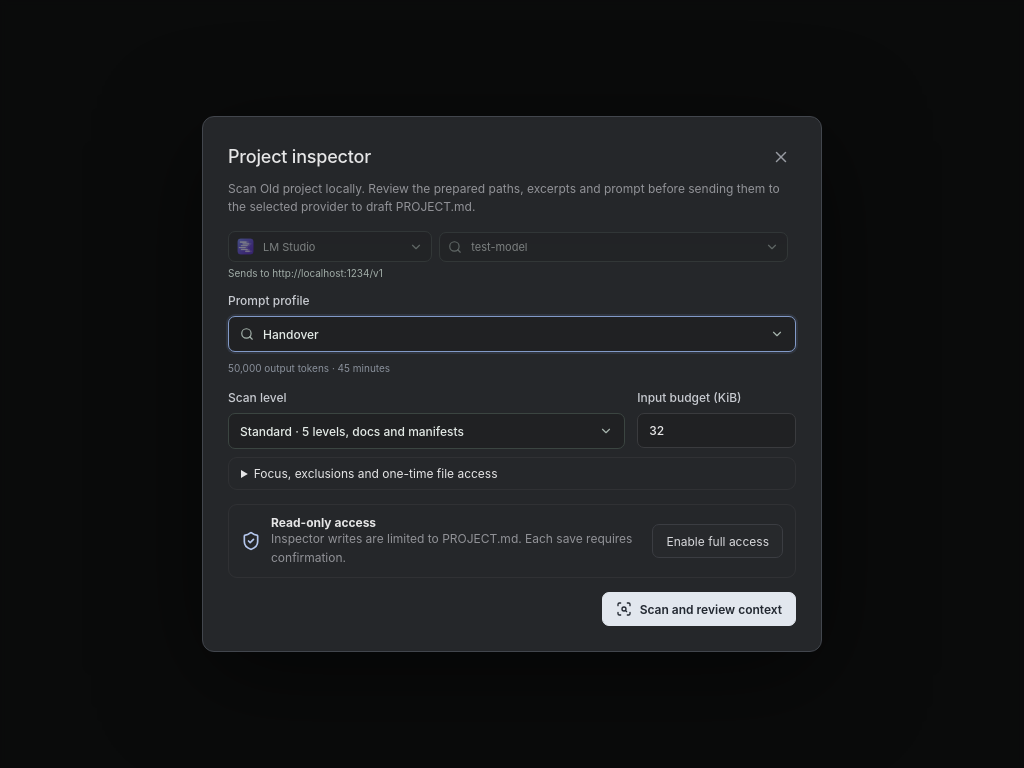
Test: sends the selected profile and shows the provider's response when there is no draft
Earlier steps of the test are not shown.
Click the dropdown named "Scan level". click: (427, 431)
box: [228,413,625,449]
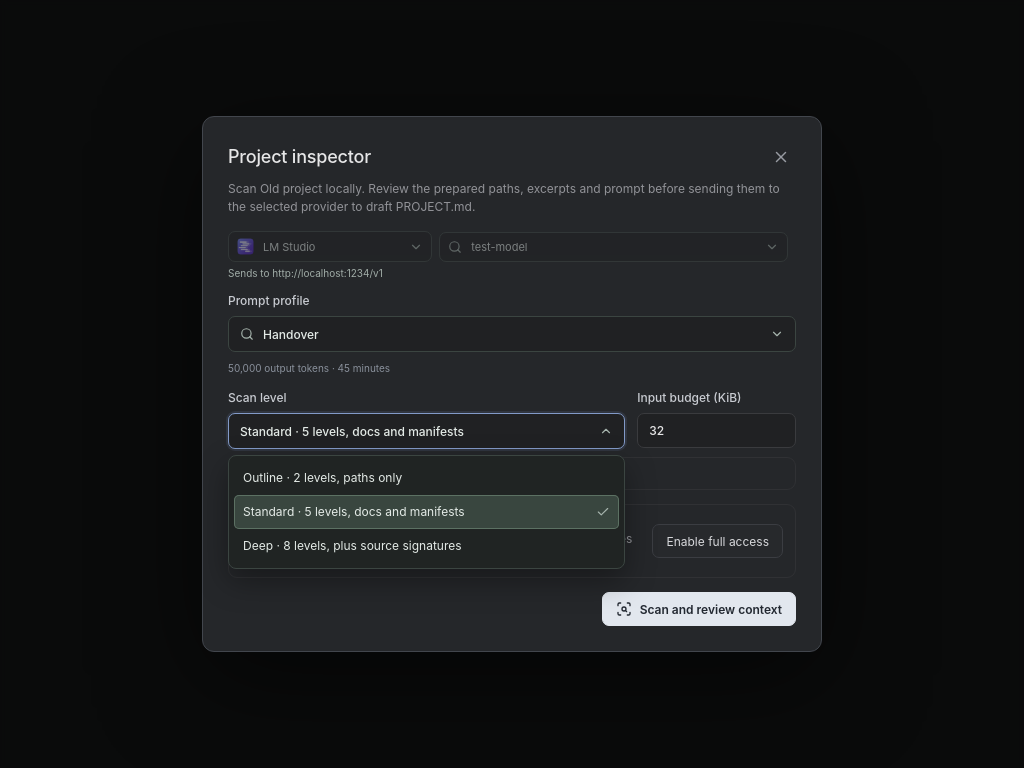
Click the option "Deep · 8 levels, plus source signatures". click: (352, 545)
box: [243,538,462,553]
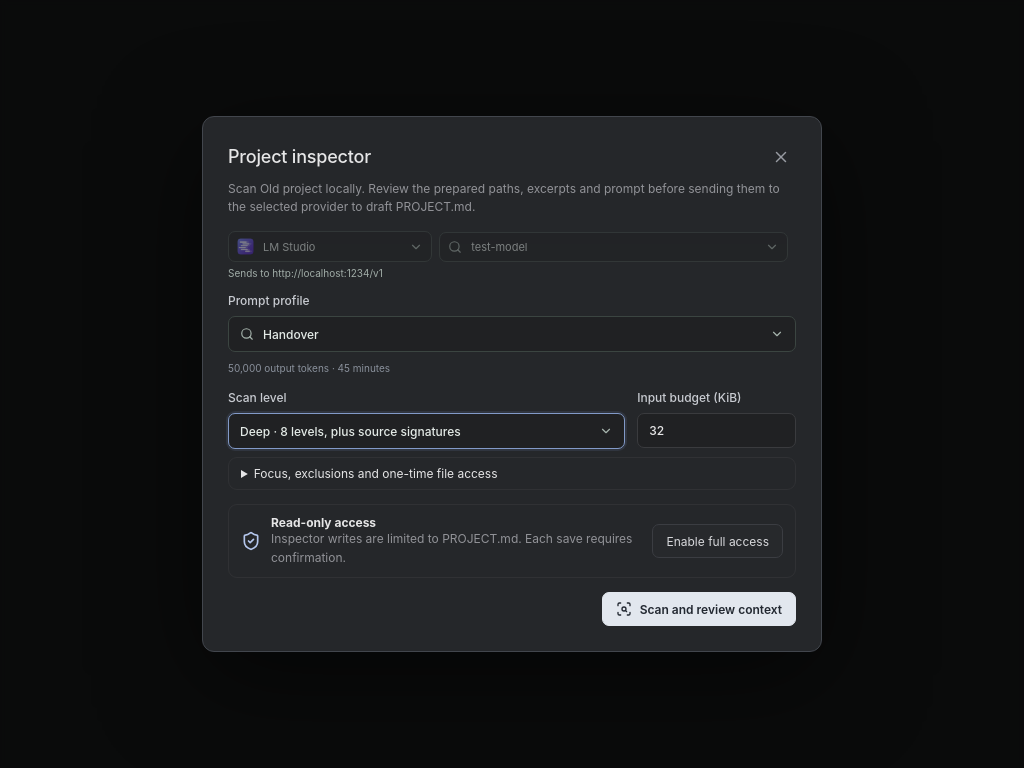
Click the button "Scan and review context". click: (699, 609)
box: [602,592,796,626]
(page scrolled)
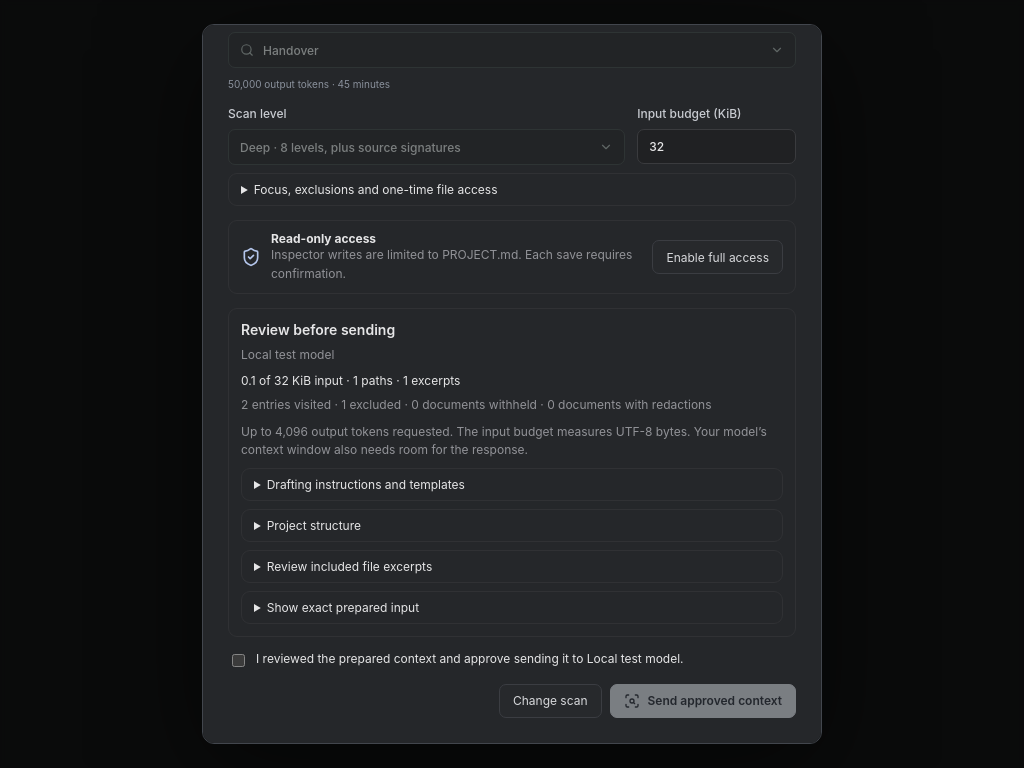
Now the button "Send approved context" is disabled, box [610,684,796,718]
Now the dropdown named "Scan level" is disabled, box [228,129,625,165]
Now the dropdown named "Prompt profile" is disabled, box [228,32,796,68]
Click the checkbox labelled "approve sending". click: (238, 660)
box: [232,654,245,667]
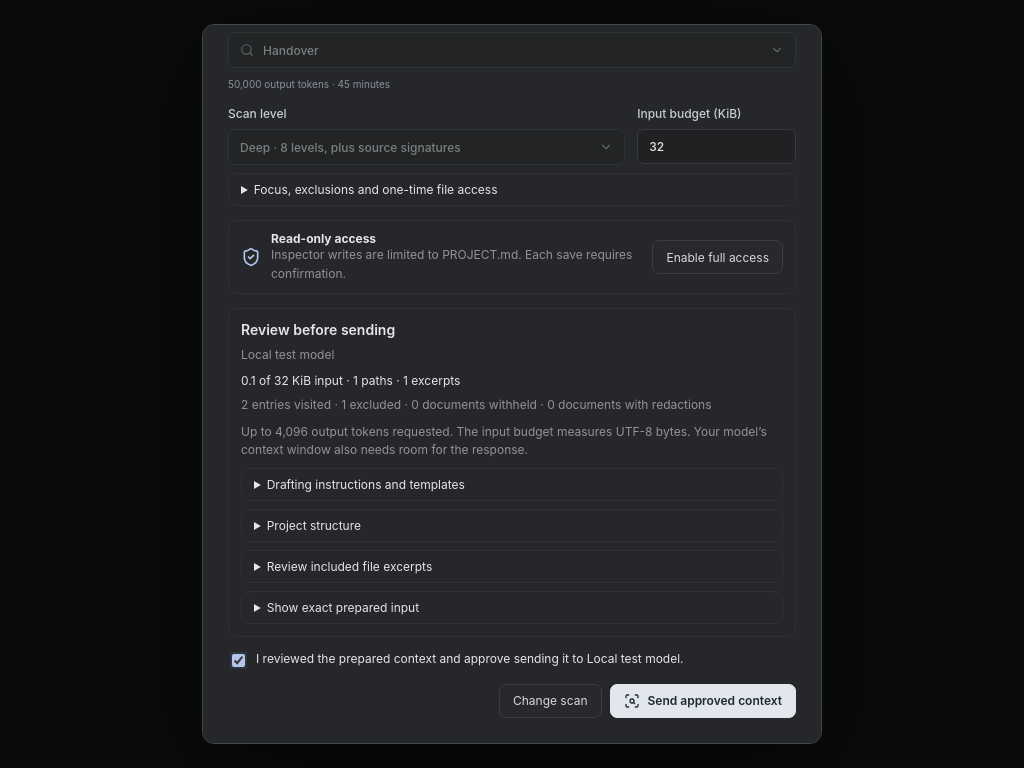
Click the button "Send approved context". click: (703, 701)
box: [610,684,796,718]
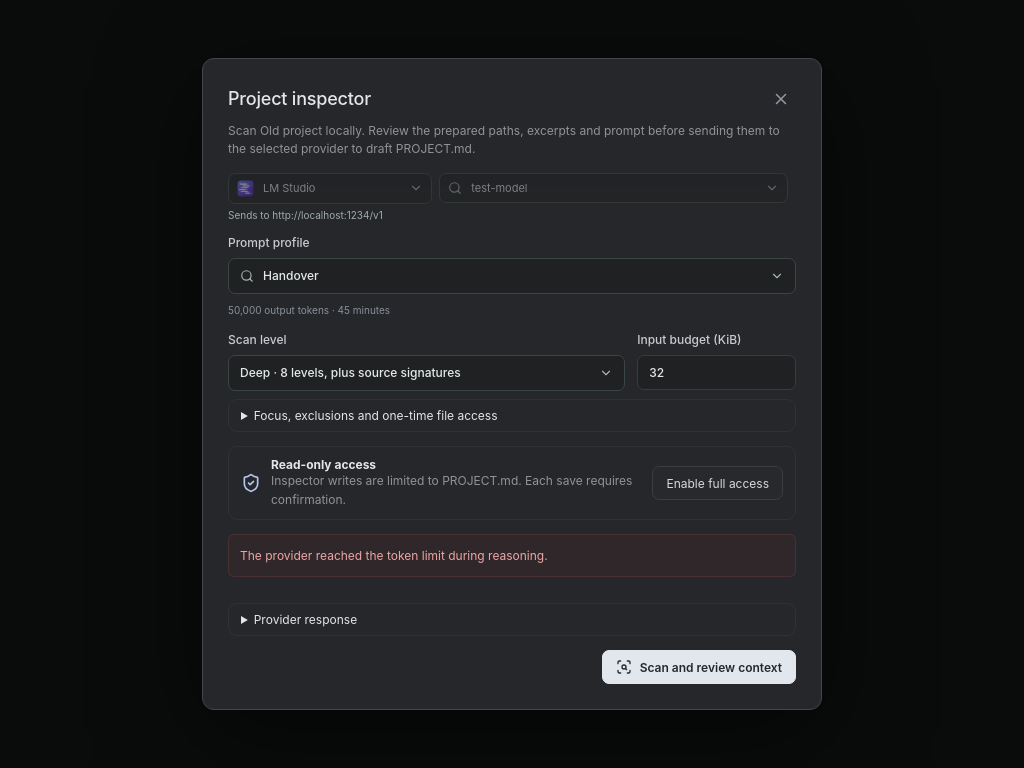
Now the message shows "token limit", box [240,548,548,563]
Click the heading "Provider response". click: (305, 620)
box: [254,612,357,627]
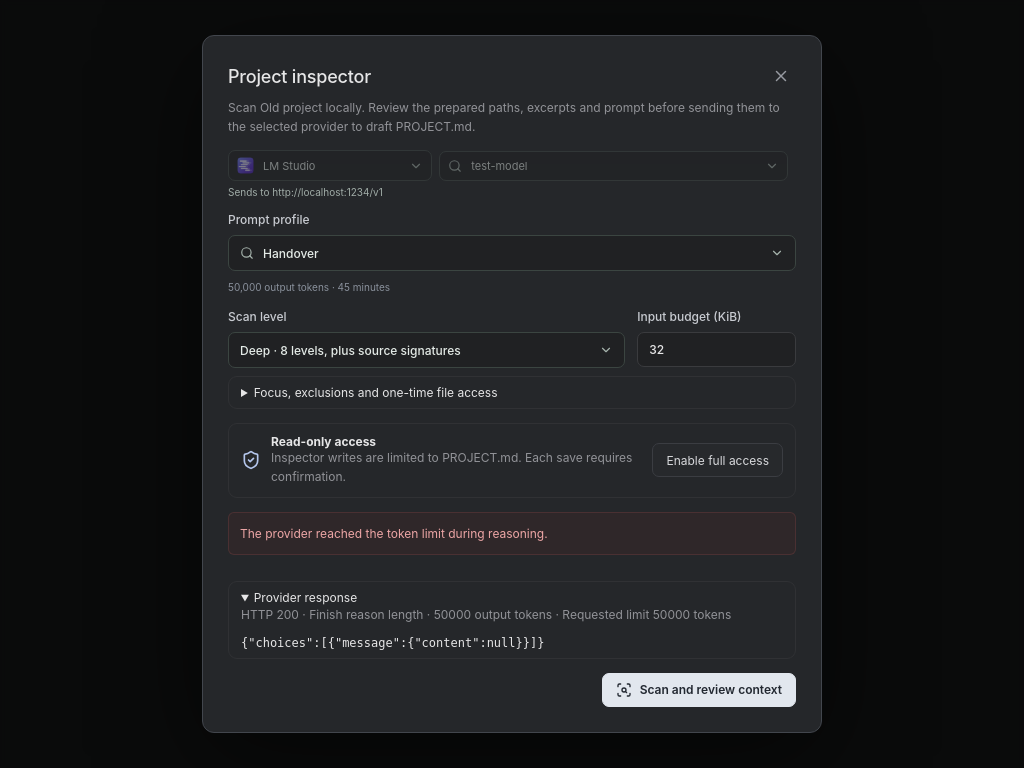
Now the text named "Provider response body" shows "\"content\":null", box [241,636,544,650]
